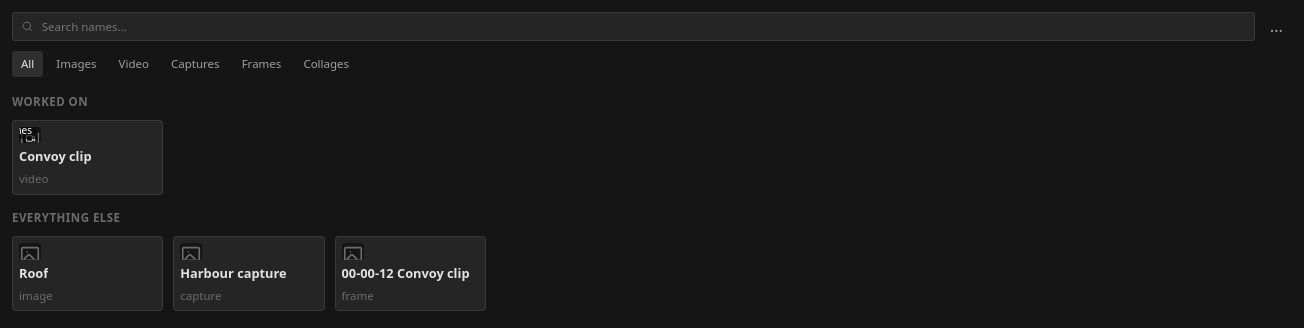
the file picker › drops the worked-on row while a filter narrows the list
Step 1. Click the button "Images" → (76,64), box 47,51 -> 106,77
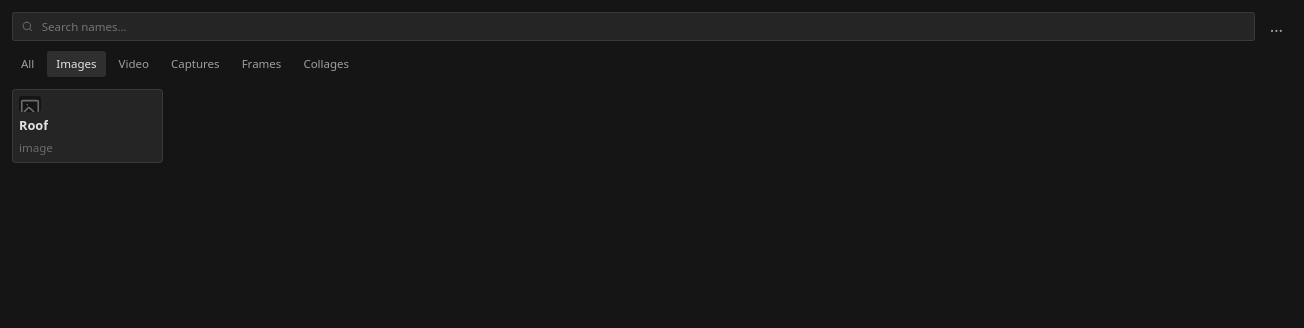
Result: the heading "Worked on" is gone
